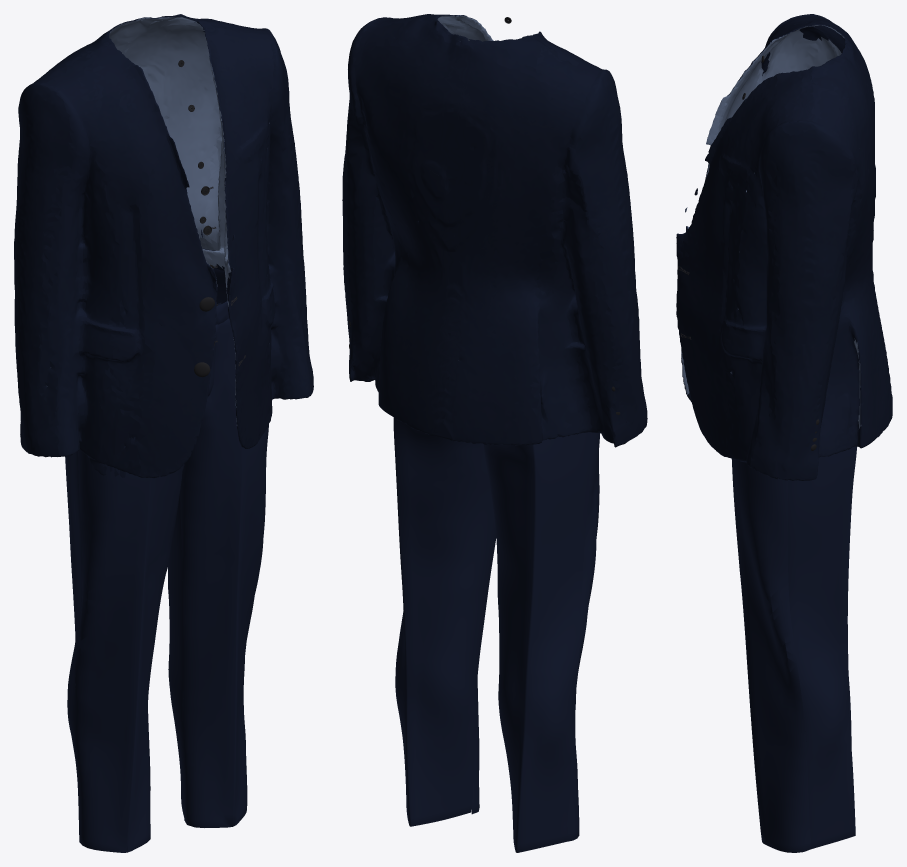
File: MW_Tailleur_suit_v5_REBUILD_try3_no_shirt_waistcoat.glb
3 renders of one model, left to right at view 1: azimuth 30°, elevation 25°; view 2: azimuth 150°, elevation 25°; view 3: azimuth 270°, elevation 25°, orthographic. The views are drawn at different scales.
Visible parts, largest first — view 1: Jacket, Trousers, Trim; view 2: Jacket, Trousers; view 3: Jacket, Trousers.
Boxes of the visible parts, x1,y1,x2,y2 form: Jacket: (14,14,313,477); Trousers: (65,268,268,852); Trim: (178,60,214,377); Jacket: (342,14,647,447); Trousers: (393,359,600,852); Jacket: (676,14,892,480); Trousers: (731,319,856,852).
Bounding box in the file's own units: 0.5401 × 1.45 × 0.3675.
5 materials, 1 textured.
